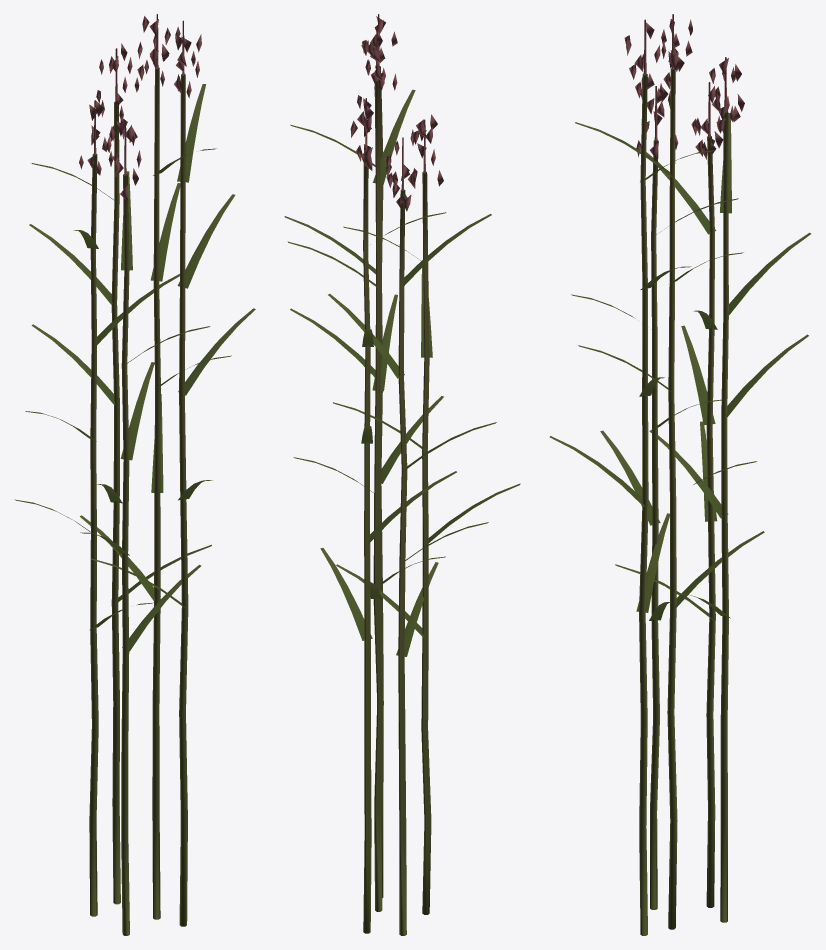
Rendered from Wetland_Phragmites.glb.
3 renders of one model, left to right at view 1: azimuth 30°, elevation 25°; view 2: azimuth 150°, elevation 25°; view 3: azimuth 270°, elevation 25°, orthographic. The views are drawn at different scales.
Parts seen in each view (by area): view 1: Wetland_Phragmites; view 2: Wetland_Phragmites; view 3: Wetland_Phragmites.
Part boxes in pixels (<box>): Wetland_Phragmites: <box>14,14,255,935</box>; Wetland_Phragmites: <box>284,14,520,935</box>; Wetland_Phragmites: <box>549,14,810,935</box>.
Size of the model in its own units: 0.9506 by 3.7 by 0.9615.
